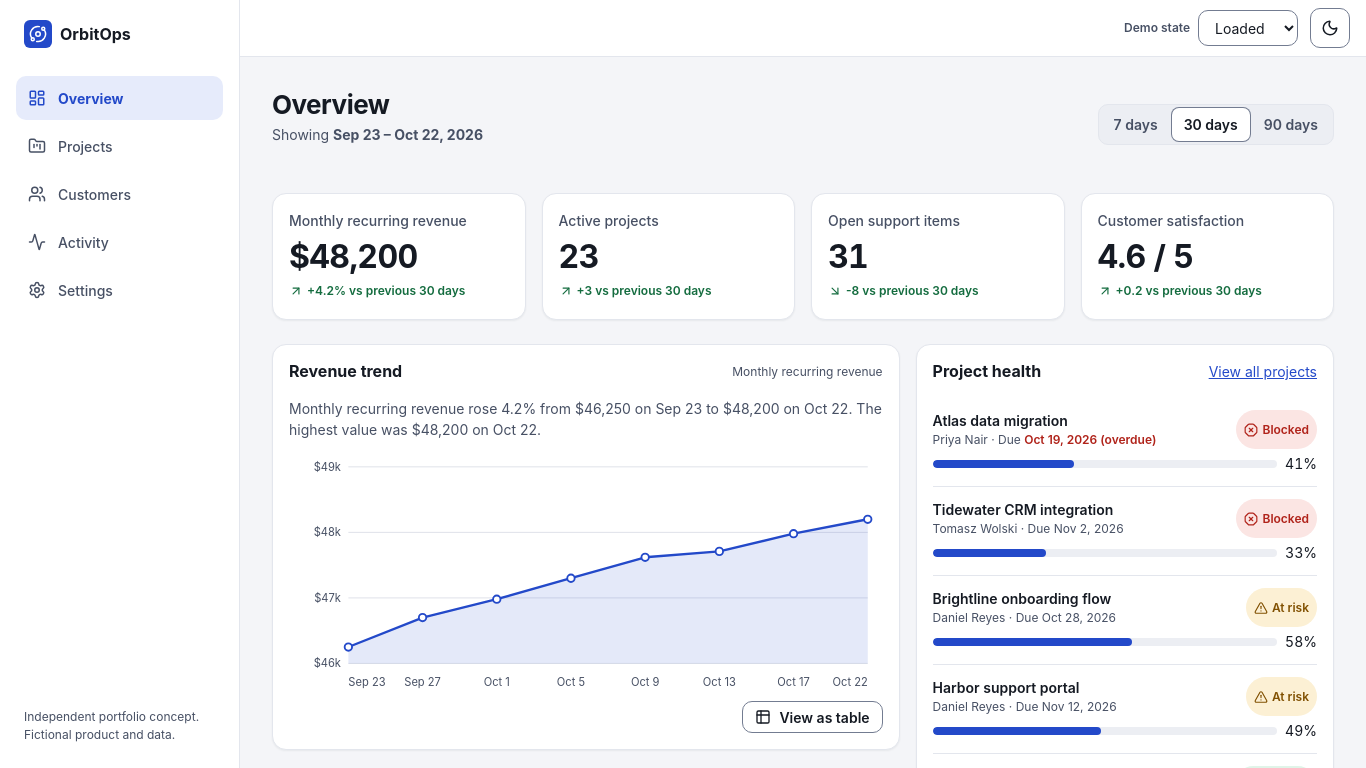
Test: overview date range › changes the summary and chart data
Check: the text "+4.2% vs previous 30 days" is shown, box [289,282,465,300]
Click the radio button labelled "7 days" at (1136, 125), box [1114,116,1158,133]
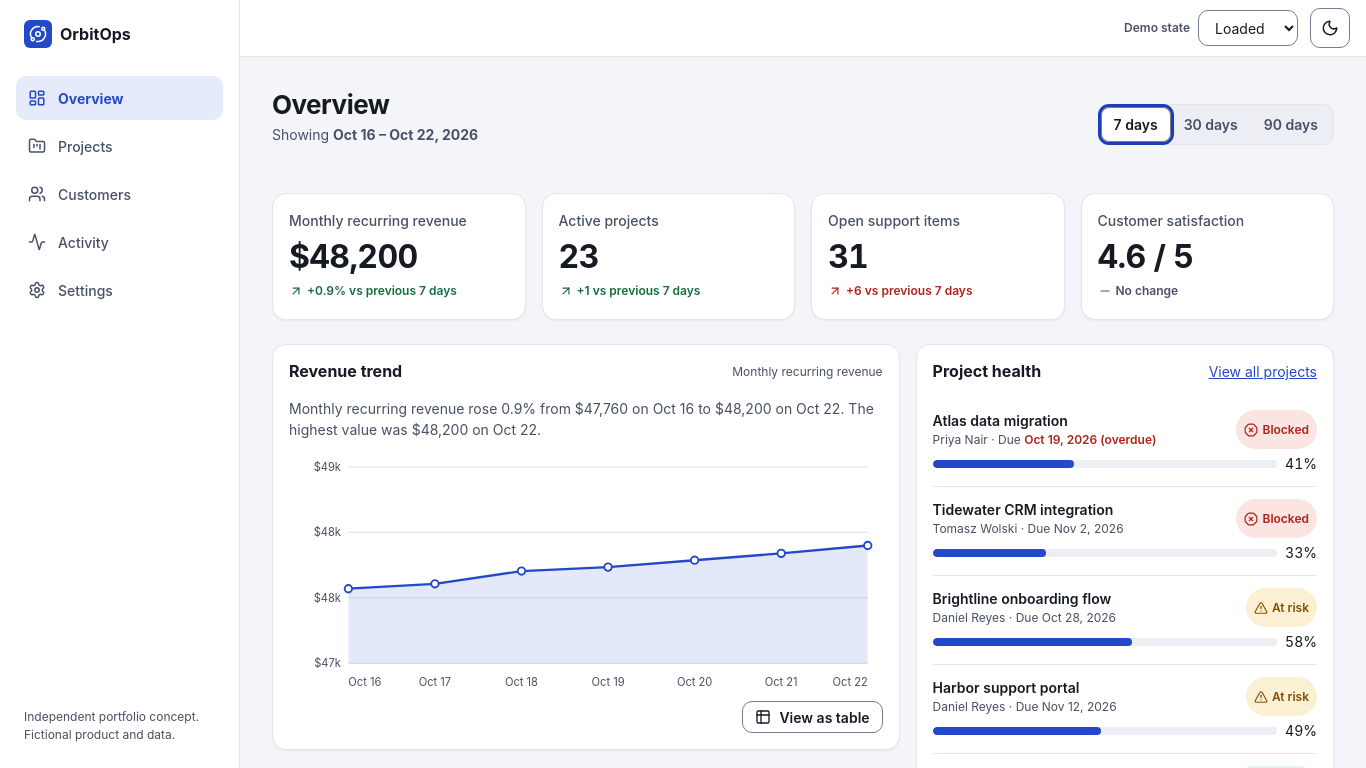
Check: the text "+0.9% vs previous 7 days" is shown, box [289,282,457,300]
Check: the text "from $47,760 on Oct 16" is shown, box [289,400,874,438]
